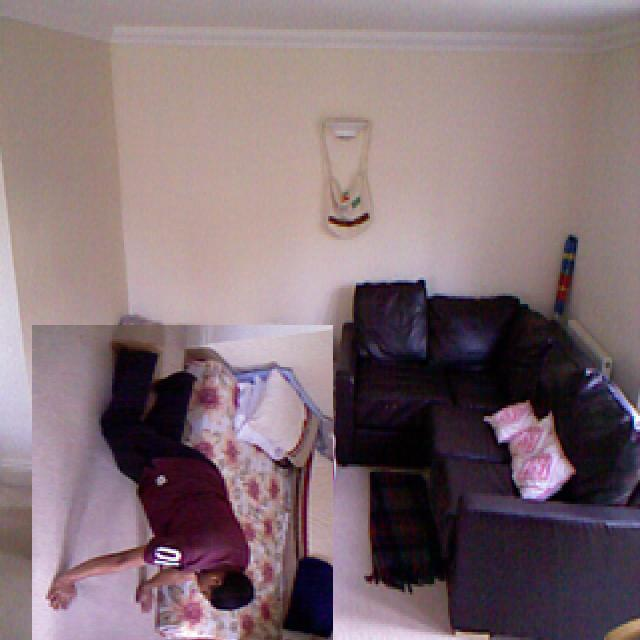Fall: (52, 321, 261, 640)
